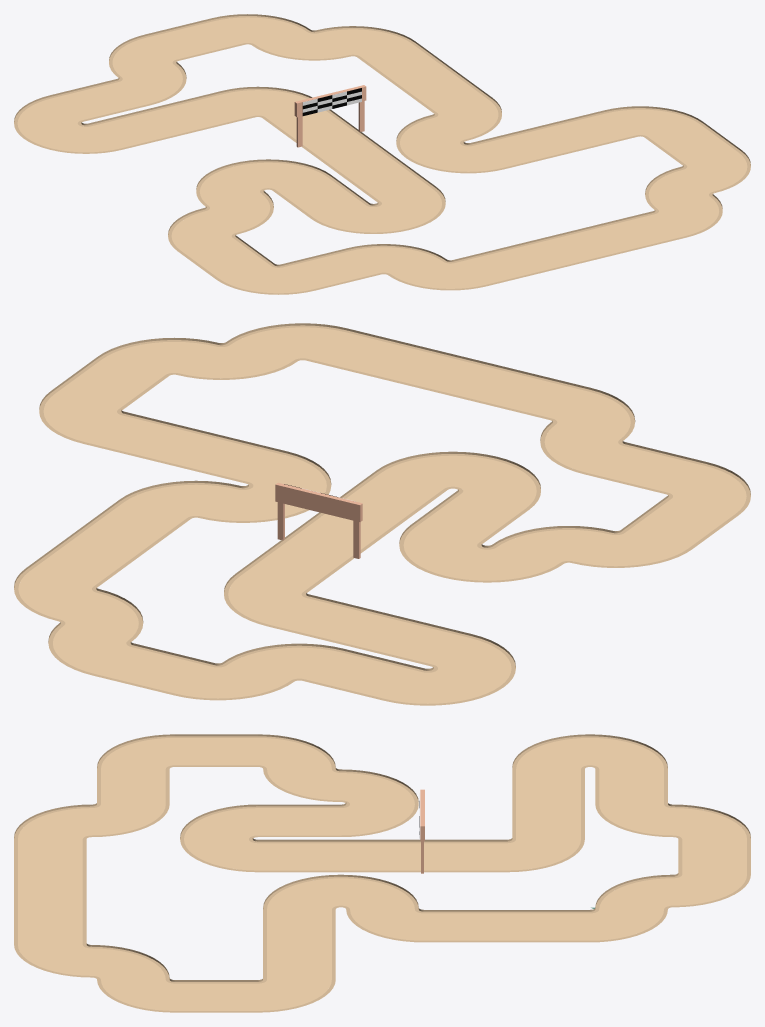
The model's file is mini_map-transformed.glb.
3 renders of one model, top to bottom at view 1: azimuth 30°, elevation 25°; view 2: azimuth 150°, elevation 25°; view 3: azimuth 270°, elevation 25°, orthographic. The views are drawn at different scales.
Parts seen in each view (by area): view 1: fence_simpleHigh; view 2: fence_simpleHigh; view 3: fence_simpleHigh.
Part boxes in pixels (x1,y1,x2,y2): fence_simpleHigh: (14,14,750,294); fence_simpleHigh: (14,323,750,705); fence_simpleHigh: (14,734,750,1012).
Bounding box in the file's own units: 15.75 × 1.3 × 17.75.
